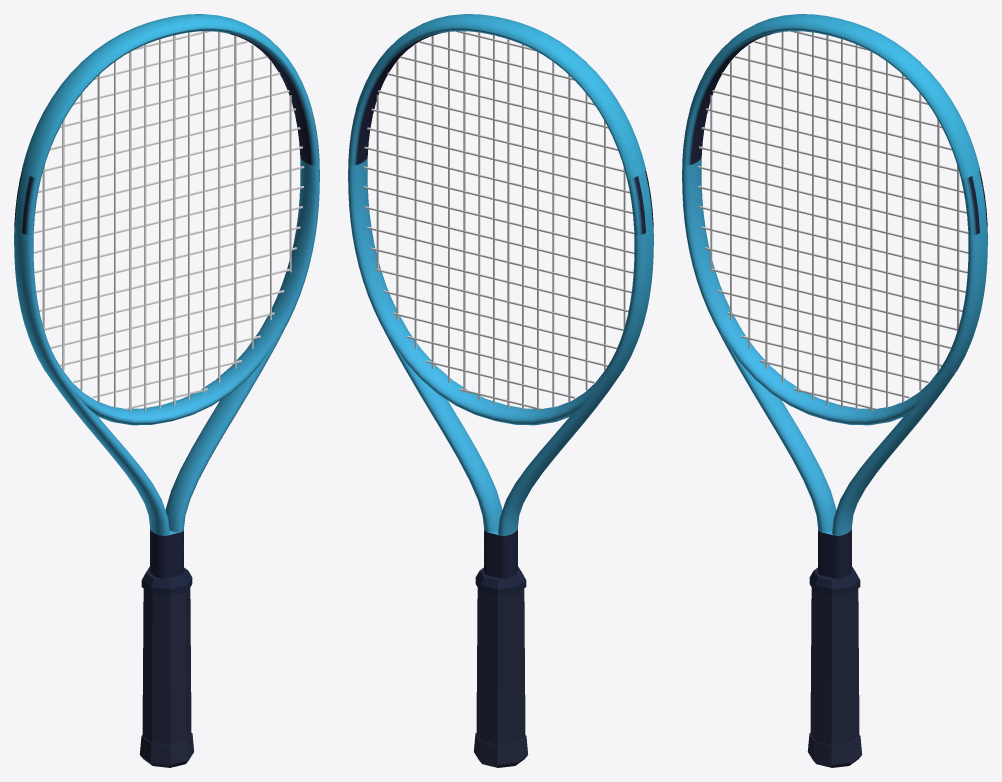
Rendered from head-boom-junior-25-2026.glb.
3 views of the same model, side by side, from view 1: azimuth 30°, elevation 25°; view 2: azimuth 150°, elevation 25°; view 3: azimuth 330°, elevation 25° (orthographic).
Visible parts, largest first — view 1: frame, strings_mains, strings_crosses, grip, bumper, grommets, butt_cap, collar; view 2: frame, strings_mains, strings_crosses, grip, bumper, grommets, butt_cap, collar; view 3: frame, strings_mains, strings_crosses, grip, bumper, grommets, butt_cap, collar.
Boxes of the visible parts, x1,y1,x2,y2 form: frame: [14, 28, 319, 578]; strings_mains: [42, 31, 291, 410]; strings_crosses: [33, 31, 304, 409]; grip: [142, 588, 191, 745]; bumper: [22, 14, 312, 178]; grommets: [14, 171, 50, 374]; butt_cap: [139, 733, 194, 767]; collar: [141, 566, 192, 596]; frame: [348, 28, 653, 578]; strings_mains: [376, 31, 625, 410]; strings_crosses: [363, 31, 634, 410]; grip: [476, 588, 525, 745]; bumper: [355, 14, 645, 178]; grommets: [617, 171, 653, 374]; butt_cap: [473, 733, 528, 767]; collar: [475, 566, 526, 596]; frame: [682, 28, 987, 578]; strings_mains: [710, 31, 959, 410]; strings_crosses: [697, 31, 968, 409]; grip: [810, 588, 859, 745]; bumper: [689, 14, 979, 178]; grommets: [951, 171, 987, 374]; butt_cap: [807, 733, 862, 767]; collar: [809, 566, 860, 596].
Bounding box in the file's own units: 0.2696 × 0.6353 × 0.0396.
